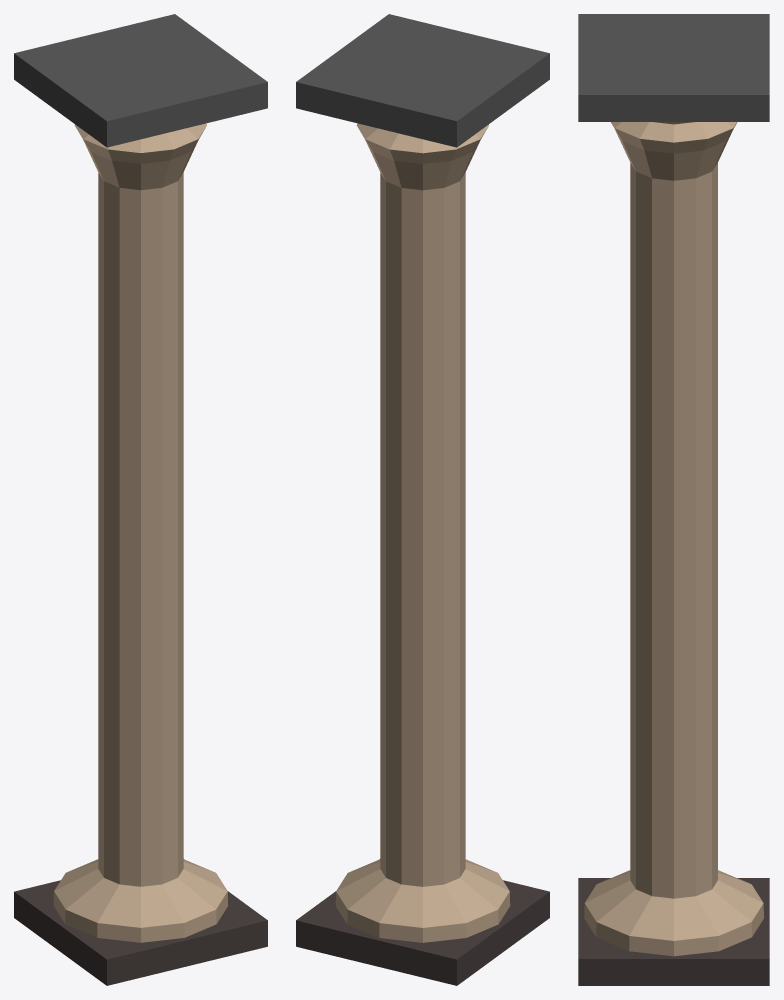
File: ruin9.fbx
3 views of the same model, side by side, from view 1: azimuth 30°, elevation 25°; view 2: azimuth 150°, elevation 25°; view 3: azimuth 270°, elevation 25° (orthographic). The views are drawn at different scales.
Visible parts, largest first — view 1: RomanTypeColOne200; view 2: RomanTypeColOne200; view 3: RomanTypeColOne200.
Boxes of the visible parts, x1=… form: RomanTypeColOne200: x1=14, y1=14, x2=267, y2=985; RomanTypeColOne200: x1=296, y1=14, x2=549, y2=985; RomanTypeColOne200: x1=578, y1=14, x2=769, y2=985.
Bounding box in the file's own units: 1724 × 8846 × 1724.
